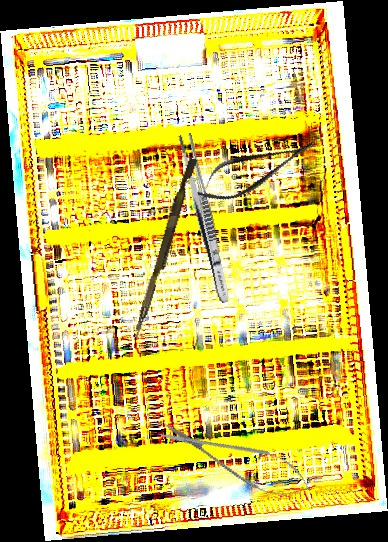Dressing Forceps: (175, 132, 234, 305)
Micro Scissor: (152, 409, 319, 509), (190, 127, 323, 212)
Pusher: (132, 156, 198, 341)
